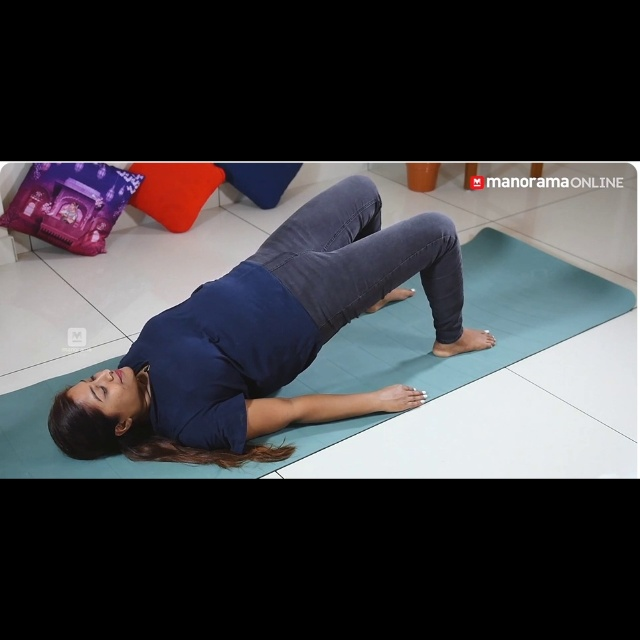Bridge_Pose: (31, 170, 512, 470)
